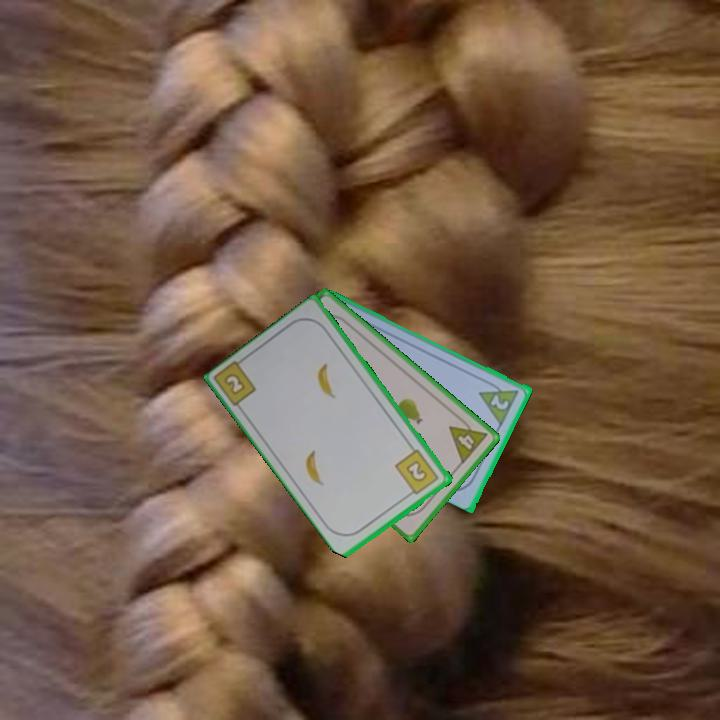2b: (392, 446, 442, 499), (221, 370, 249, 398)
2p: (487, 390, 512, 413)
4p: (445, 412, 490, 467)
